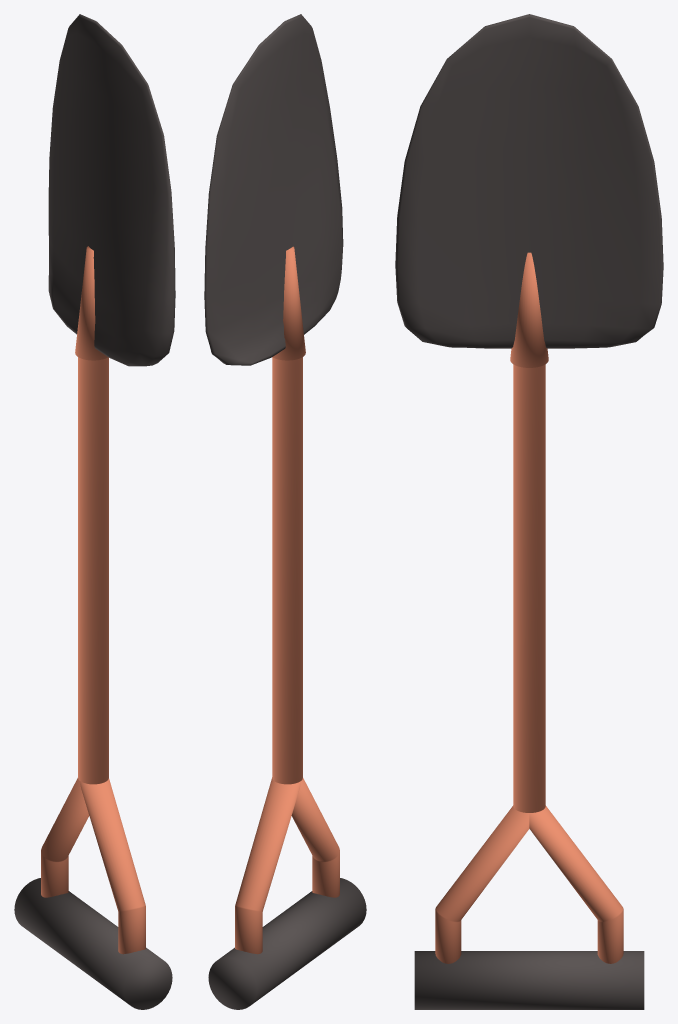
Rendered from Shovel.fbx.
3 renders of one model, left to right at view 1: azimuth 30°, elevation 25°; view 2: azimuth 150°, elevation 25°; view 3: azimuth 270°, elevation 25°, orthographic. The views are drawn at different scales.
Parts seen in each view (by area): view 1: Shovel; view 2: Shovel; view 3: Shovel.
Part boxes in pixels (bbox=[...]): Shovel: bbox=[14, 14, 175, 1009]; Shovel: bbox=[204, 14, 366, 1009]; Shovel: bbox=[395, 14, 663, 1009].
Bounding box in the file's own units: 31.51 × 586 × 143.
